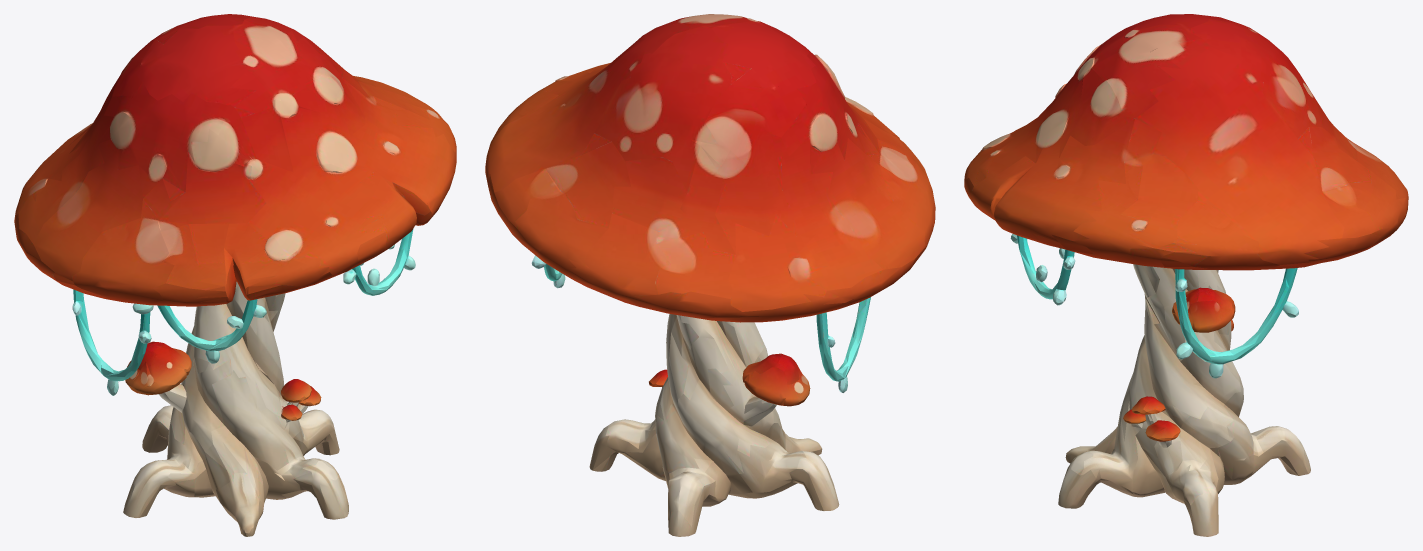
The model's file is ch1_giant_mushroom_tree.fbx.
3 renders of one model, left to right at view 1: azimuth 30°, elevation 25°; view 2: azimuth 150°, elevation 25°; view 3: azimuth 270°, elevation 25°, orthographic.
Visible parts, largest first — view 1: ch1_giant_mushroom_tree; view 2: ch1_giant_mushroom_tree; view 3: ch1_giant_mushroom_tree.
Part boxes in pixels (x1=…): ch1_giant_mushroom_tree: x1=14, y1=14, x2=456, y2=536; ch1_giant_mushroom_tree: x1=485, y1=14, x2=935, y2=536; ch1_giant_mushroom_tree: x1=964, y1=14, x2=1408, y2=536.
Bounding box in the file's own units: 7.97 × 9 × 7.97.
Materials: 1 (1 with a texture image).
